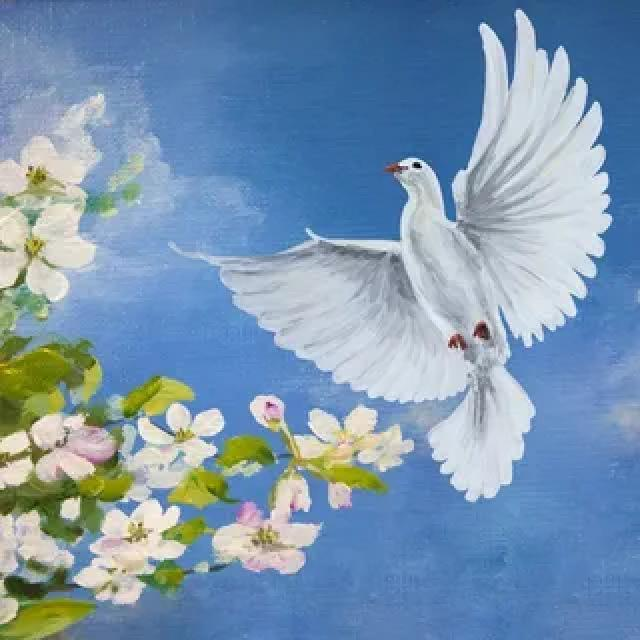pigeon: (214, 5, 618, 506)
